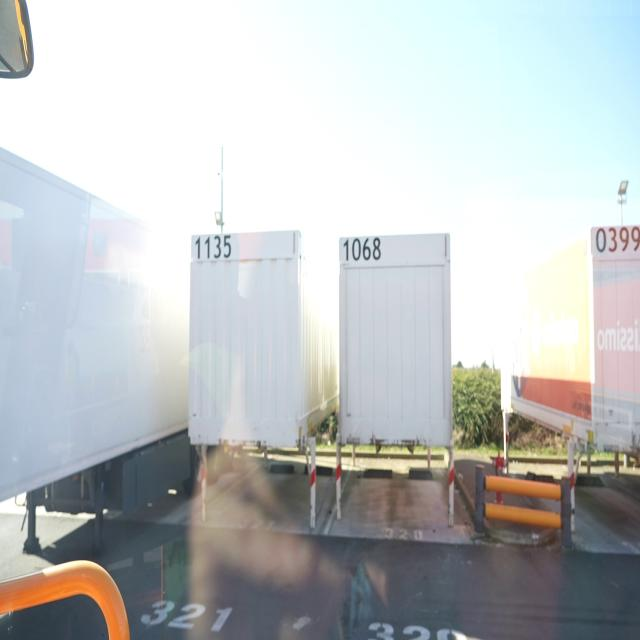Code: (594, 224, 639, 263), (191, 229, 234, 262), (340, 236, 384, 266)
